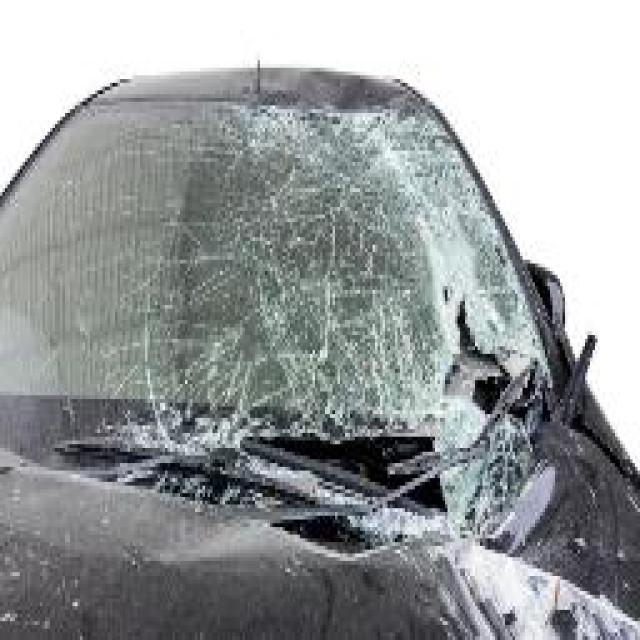Bonnet: (2, 452, 628, 640)
Windshield: (20, 102, 530, 433)
